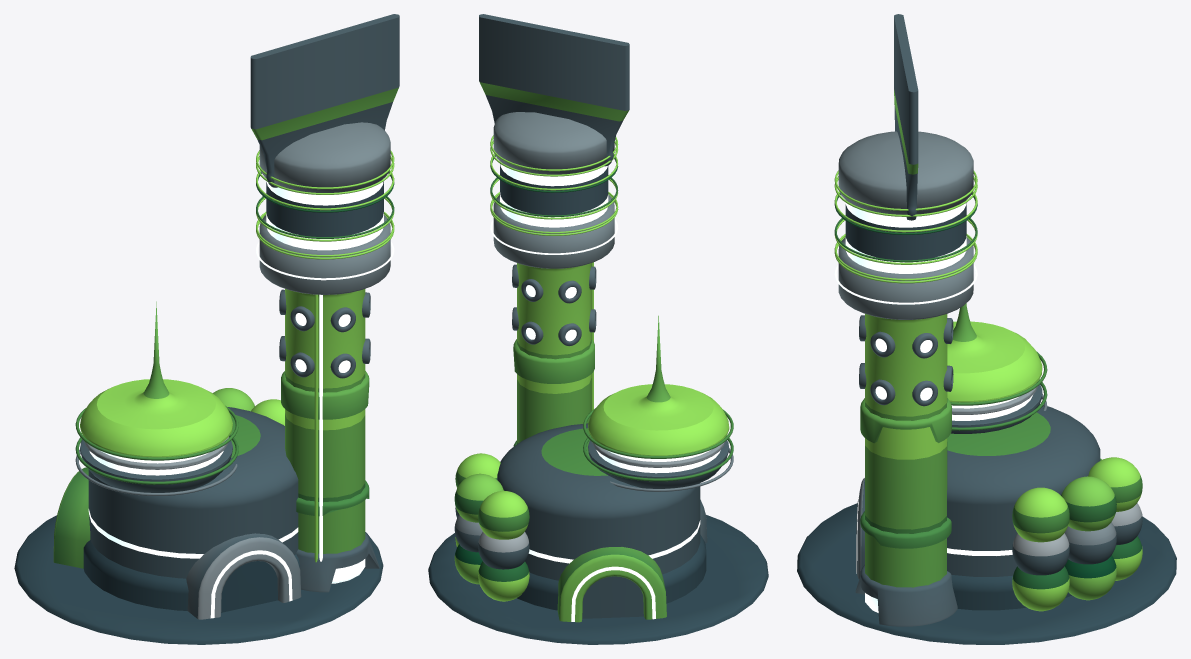
The model's file is ScifiStation3.glb.
3 views of the same model, side by side, from view 1: azimuth 30°, elevation 25°; view 2: azimuth 150°, elevation 25°; view 3: azimuth 270°, elevation 25° (orthographic). The views are drawn at different scales.
Parts seen in each view (by area): view 1: Tower2, MainBuilding1, Smalltower1, Door1, LightTower2, Door2, Tanks1, LightSmalltower1, LightMainBuilding1, LightDoor1; view 2: Tower2, MainBuilding1, Smalltower1, Tanks1, Door2, LightTower2, LightSmalltower1, LightDoor2, LightMainBuilding1; view 3: Tower2, MainBuilding1, Tanks1, Smalltower1, LightTower2, LightSmalltower1, Door1.
Boxes of the visible parts, left/top/right/bottom form: Tower2: left=250, top=14, right=399, bottom=592; MainBuilding1: left=14, top=407, right=383, bottom=644; Smalltower1: left=75, top=301, right=238, bottom=495; Door1: left=186, top=533, right=301, bottom=619; LightTower2: left=256, top=178, right=394, bottom=583; Door2: left=53, top=467, right=90, bottom=568; Tanks1: left=212, top=388, right=284, bottom=425; LightSmalltower1: left=89, top=451, right=223, bottom=475; LightMainBuilding1: left=88, top=509, right=298, bottom=558; LightDoor1: left=210, top=550, right=292, bottom=618; Tower2: left=479, top=14, right=629, bottom=446; MainBuilding1: left=428, top=423, right=768, bottom=644; Smalltower1: left=583, top=315, right=733, bottom=491; Tanks1: left=454, top=453, right=529, bottom=601; Door2: left=557, top=547, right=666, bottom=622; LightTower2: left=490, top=164, right=618, bottom=341; LightSmalltower1: left=596, top=450, right=720, bottom=473; LightDoor2: left=571, top=566, right=655, bottom=621; LightMainBuilding1: left=528, top=520, right=700, bottom=563; Tower2: left=834, top=14, right=977, bottom=626; MainBuilding1: left=797, top=404, right=1176, bottom=644; Tanks1: left=1012, top=457, right=1142, bottom=611; Smalltower1: left=947, top=303, right=1047, bottom=433; LightTower2: left=834, top=203, right=977, bottom=612; LightSmalltower1: left=951, top=395, right=1032, bottom=420; Door1: left=856, top=478, right=864, bottom=578.
Bounding box in the file's own units: 3.53 × 5.6 × 3.47.
Materials: 2 (1 with a texture image).
